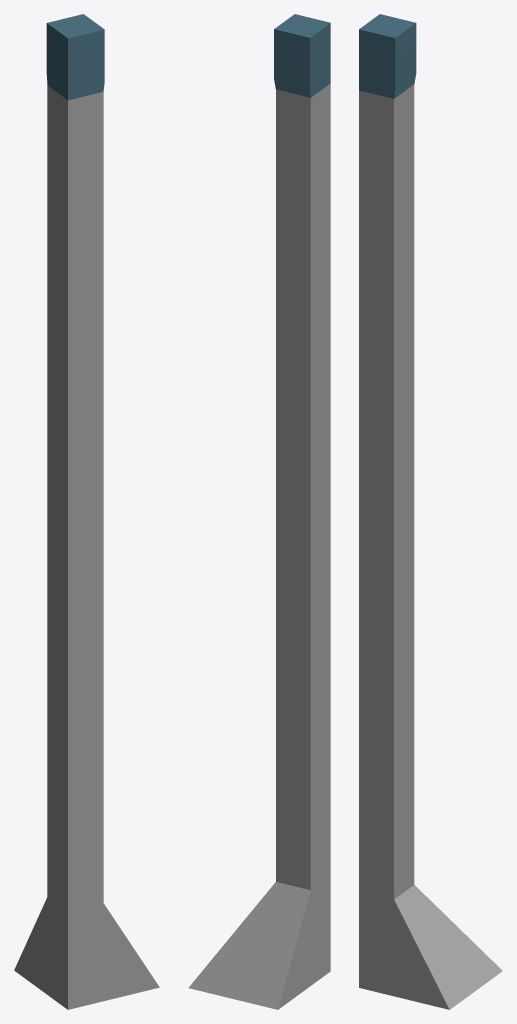
Rendered from SM_WallCorner.fbx.
The picture shows the model from 3 angles, left to right: view 1: azimuth 30°, elevation 25°; view 2: azimuth 150°, elevation 25°; view 3: azimuth 330°, elevation 25°; orthographic projection. The views are drawn at different scales.
Visible parts, largest first — view 1: SM_WallCorner; view 2: SM_WallCorner; view 3: SM_WallCorner.
Part boxes in pixels (x1=…): SM_WallCorner: x1=14, y1=14, x2=159, y2=1009; SM_WallCorner: x1=188, y1=14, x2=330, y2=1009; SM_WallCorner: x1=359, y1=14, x2=502, y2=1009.
Size of the model in its own units: 39.67 by 401 by 40.32.
